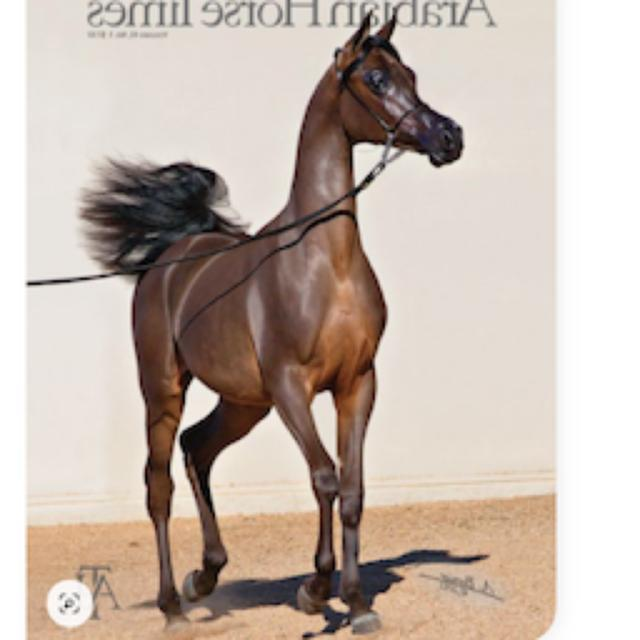Horse: (72, 8, 472, 638)
